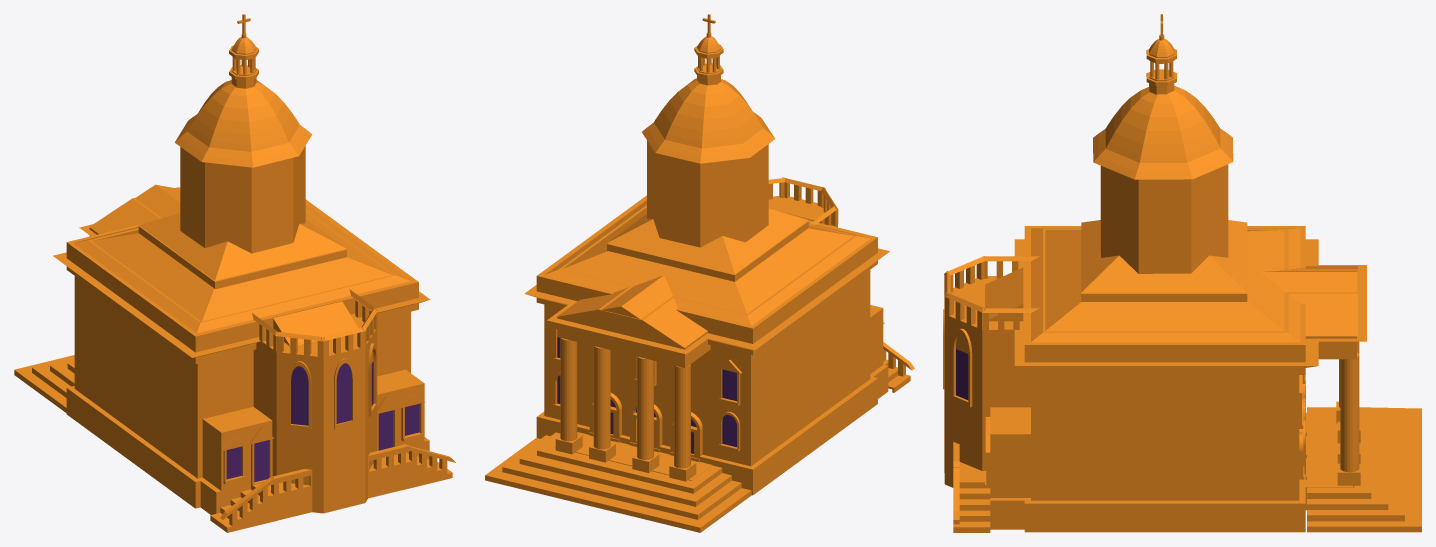
The model's file is Garnizownowy.fbx.
3 renders of one model, left to right at view 1: azimuth 30°, elevation 25°; view 2: azimuth 150°, elevation 25°; view 3: azimuth 270°, elevation 25°, orthographic. The views are drawn at different scales.
Parts seen in each view (by area): view 1: Garnizonowy_obj_0; view 2: Garnizonowy_obj_0; view 3: Garnizonowy_obj_0.
Boxes of the visible parts, x1,y1,x2,y2 form: Garnizonowy_obj_0: (14,14,455,532); Garnizonowy_obj_0: (485,14,914,532); Garnizonowy_obj_0: (943,14,1421,532).
Bounding box in the file's own units: 26.75 × 45.08 × 42.69.
1 material, 1 textured.
